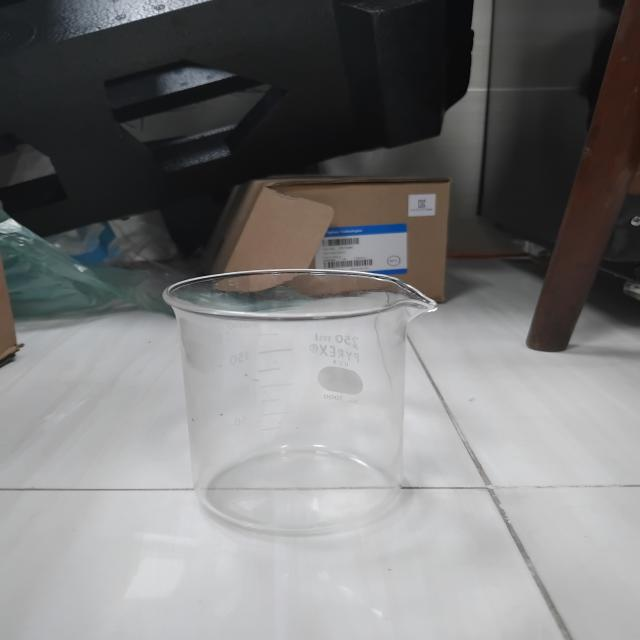Beaker: (109, 241, 478, 567)
